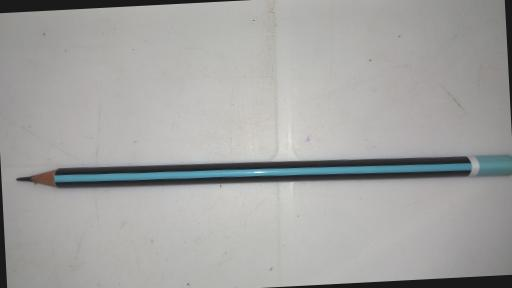Pencil: (11, 141, 512, 201)
